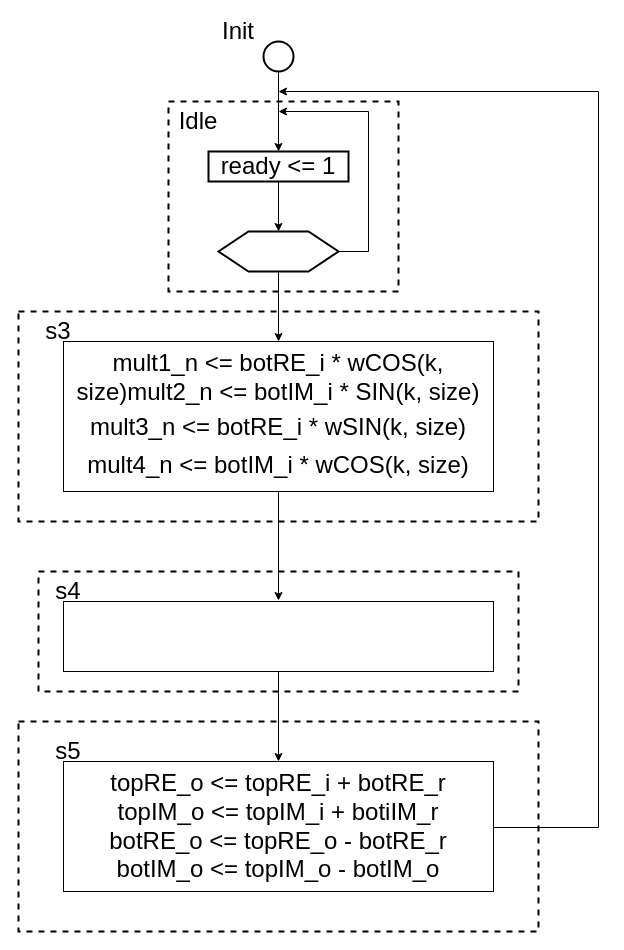
The diagram is 624 pixels wide and 950 high, and some of its shapes have lost their labels. The shapes that lost their labels are listed below. From the top down, each one's centre as x and y in pixels, then its label:
At point (278, 251): "start = 1".
At point (278, 636): "botRE_n <= mult1_r - mult2_r botIM_n <= mult3_r + mult4_r".
